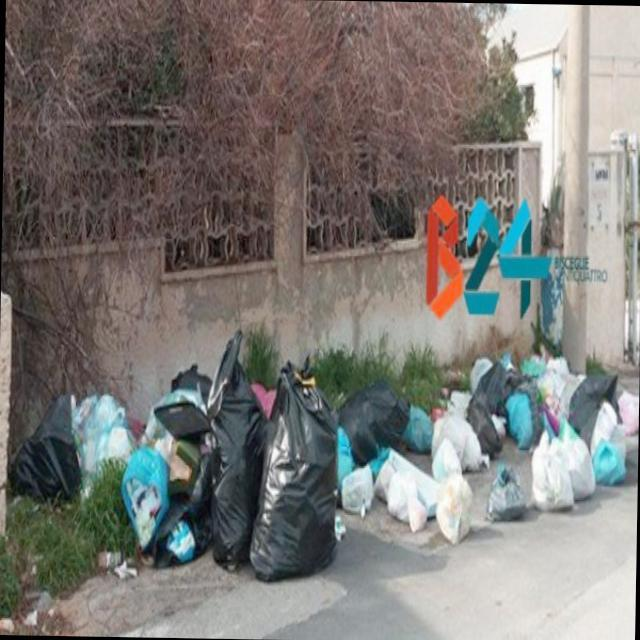garbage: (11, 308, 640, 588)
